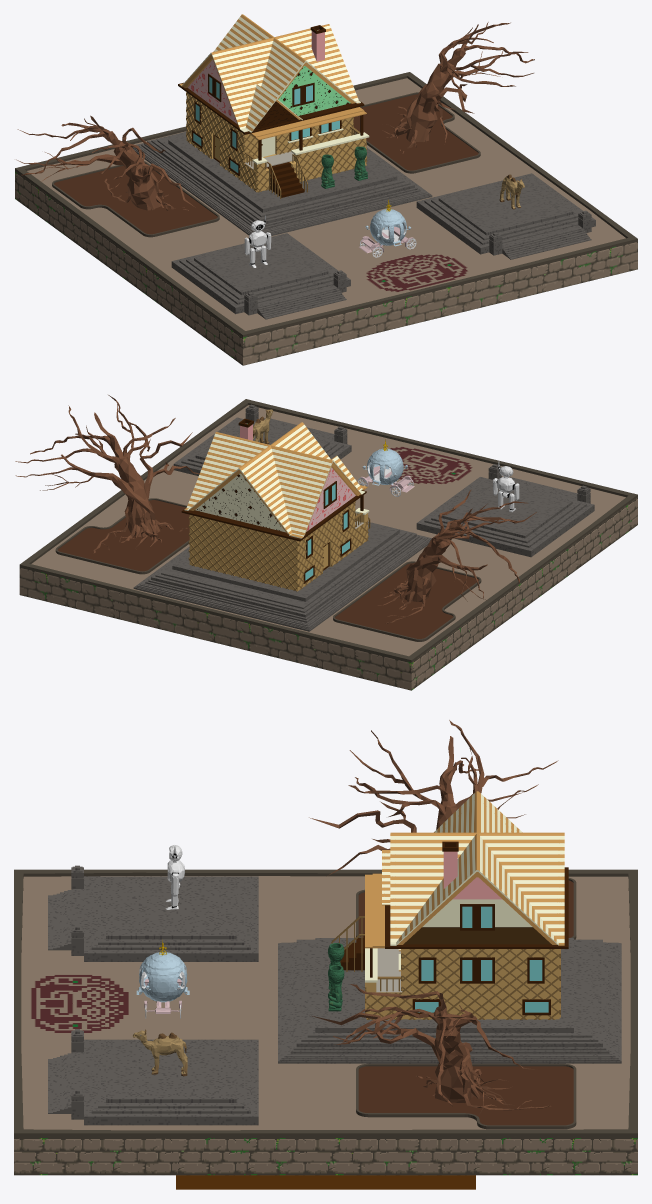
3 views of the same model, one above another, from view 1: azimuth 30°, elevation 25°; view 2: azimuth 150°, elevation 25°; view 3: azimuth 270°, elevation 25° (orthographic). The views are drawn at different scales.
Visible parts, largest first — view 1: Cube.011, Cube.1102, VEHICLES_FANTASY_CARRIAGE, OBJRANDOM_PLATZEEBOT, ANIMAL_CAMELLO; view 2: Cube.011, Cube.1102, VEHICLES_FANTASY_CARRIAGE, OBJRANDOM_PLATZEEBOT, ANIMAL_CAMELLO; view 3: Cube.011, Cube.1102, UNDERGROUND_ART_PIECE_VAN_GOGH, VEHICLES_FANTASY_CARRIAGE, ANIMAL_CAMELLO, OBJRANDOM_PLATZEEBOT.
Part boxes in pixels (<box>): Cube.011: <box>15,22,637,365</box>; Cube.1102: <box>178,14,369,198</box>; VEHICLES_FANTASY_CARRIAGE: <box>359,200,416,257</box>; OBJRANDOM_PLATZEEBOT: <box>244,215,271,267</box>; ANIMAL_CAMELLO: <box>499,174,524,209</box>; Cube.011: <box>15,395,637,690</box>; Cube.1102: <box>181,418,370,591</box>; VEHICLES_FANTASY_CARRIAGE: <box>357,439,414,496</box>; OBJRANDOM_PLATZEEBOT: <box>493,461,519,512</box>; ANIMAL_CAMELLO: <box>253,409,273,444</box>; Cube.011: <box>14,720,637,1175</box>; Cube.1102: <box>331,791,568,1019</box>; UNDERGROUND_ART_PIECE_VAN_GOGH: <box>176,1175,475,1189</box>; VEHICLES_FANTASY_CARRIAGE: <box>136,940,189,1018</box>; ANIMAL_CAMELLO: <box>133,1029,187,1076</box>; OBJRANDOM_PLATZEEBOT: <box>165,845,184,909</box>.
Size of the model in its own units: 5099 by 1785 by 4000.
29 materials, 7 textured.
